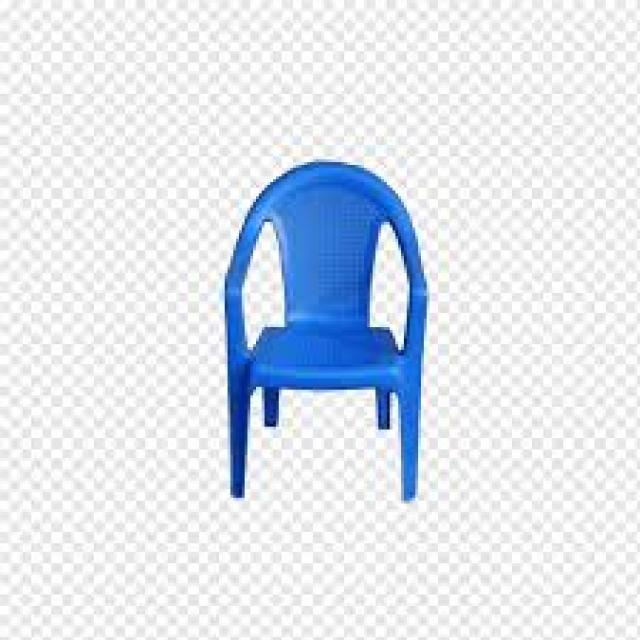chair: (218, 101, 440, 522)
